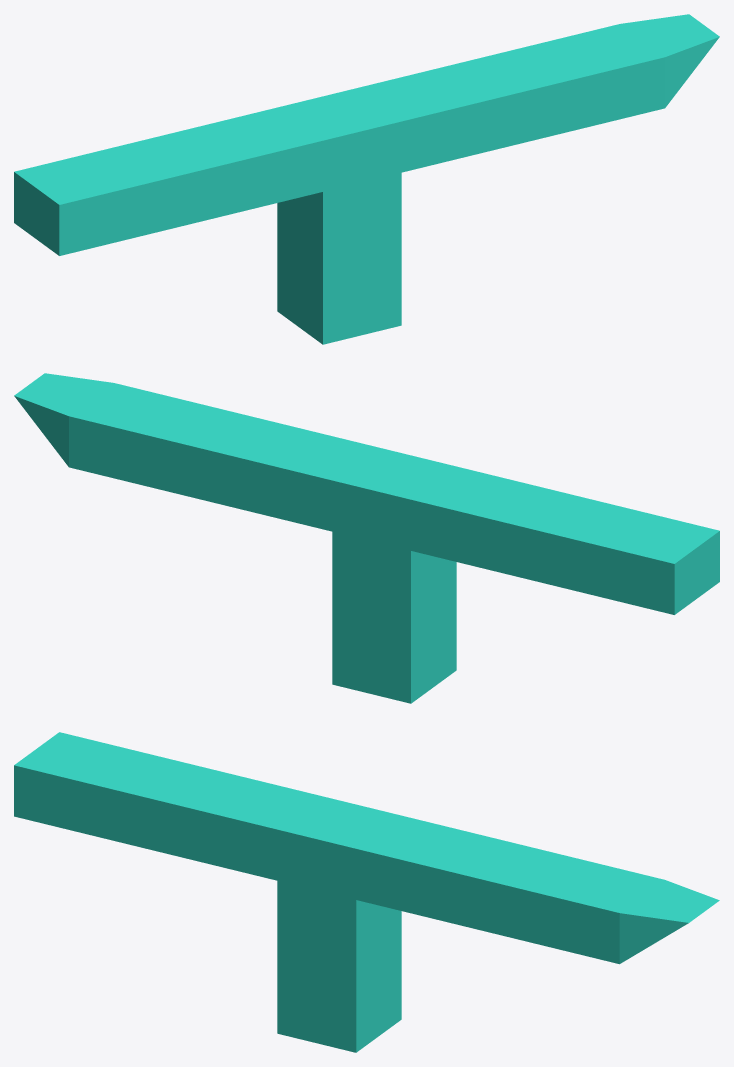
3 renders of one model, top to bottom at view 1: azimuth 30°, elevation 25°; view 2: azimuth 150°, elevation 25°; view 3: azimuth 330°, elevation 25°, orthographic.
Visible parts, largest first — view 1: Cube; view 2: Cube; view 3: Cube.
Part boxes in pixels (bbox=[...]): Cube: bbox=[14, 14, 719, 344]; Cube: bbox=[14, 373, 719, 703]; Cube: bbox=[14, 732, 719, 1052].
Bounding box in the file's own units: 1698 × 200 × 496.
